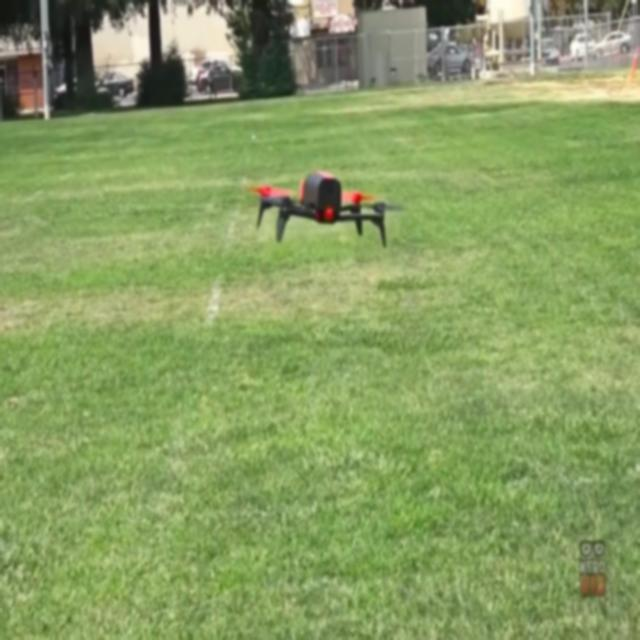UAV: (247, 170, 404, 250)
